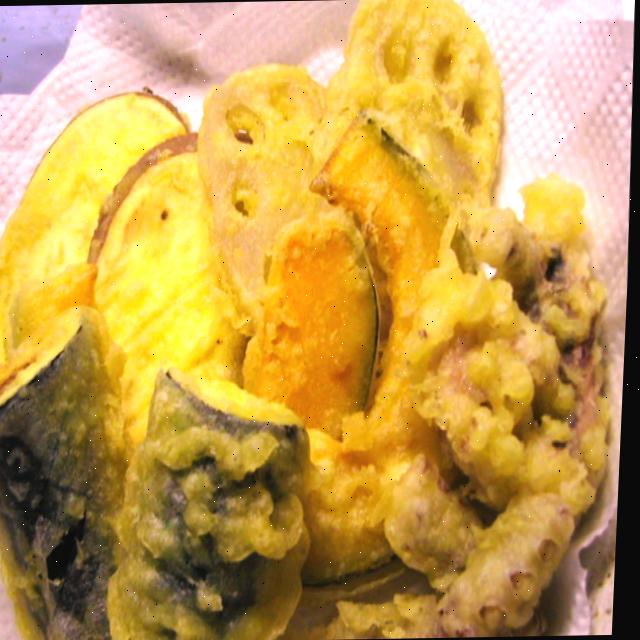蔬菜料理: (0, 11, 628, 640)
